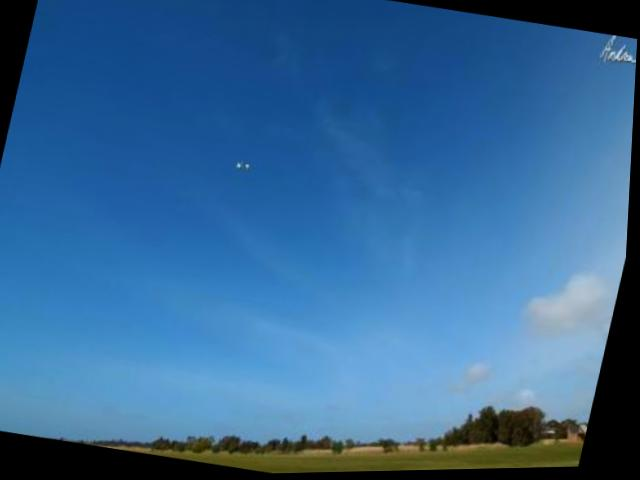uav: (233, 153, 258, 174)
